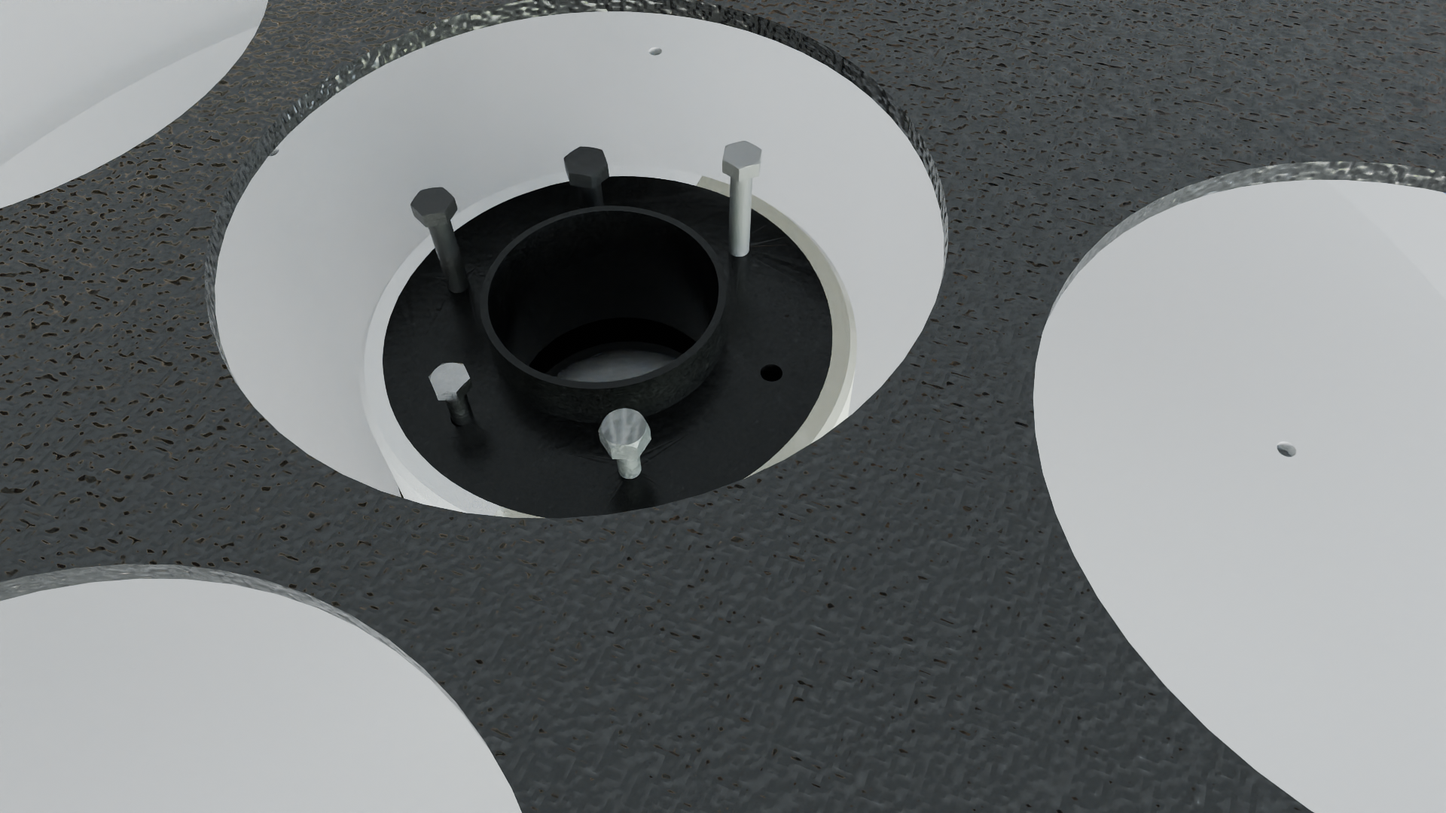bolt: (599, 408, 650, 449), (563, 146, 608, 177), (410, 187, 454, 216), (429, 363, 470, 392), (722, 141, 762, 170)
